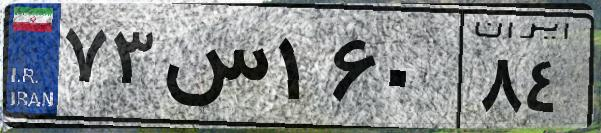0: (385, 28, 445, 110)
1: (270, 28, 330, 110)
3: (110, 28, 158, 98)
4: (525, 38, 570, 115)
6: (330, 28, 385, 110)
7: (57, 26, 110, 100)
8: (475, 38, 525, 113)
س: (158, 20, 270, 120)
